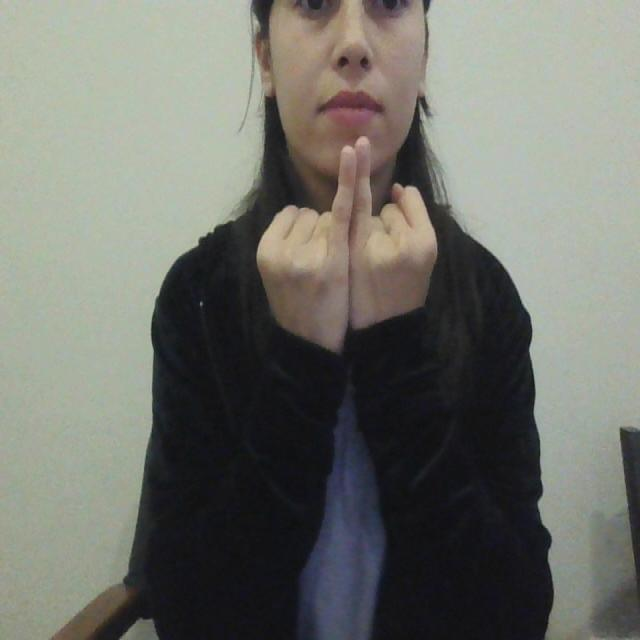Kardes: (252, 126, 442, 368)
